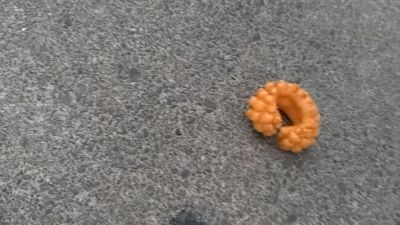eggs: (246, 79, 321, 155)
